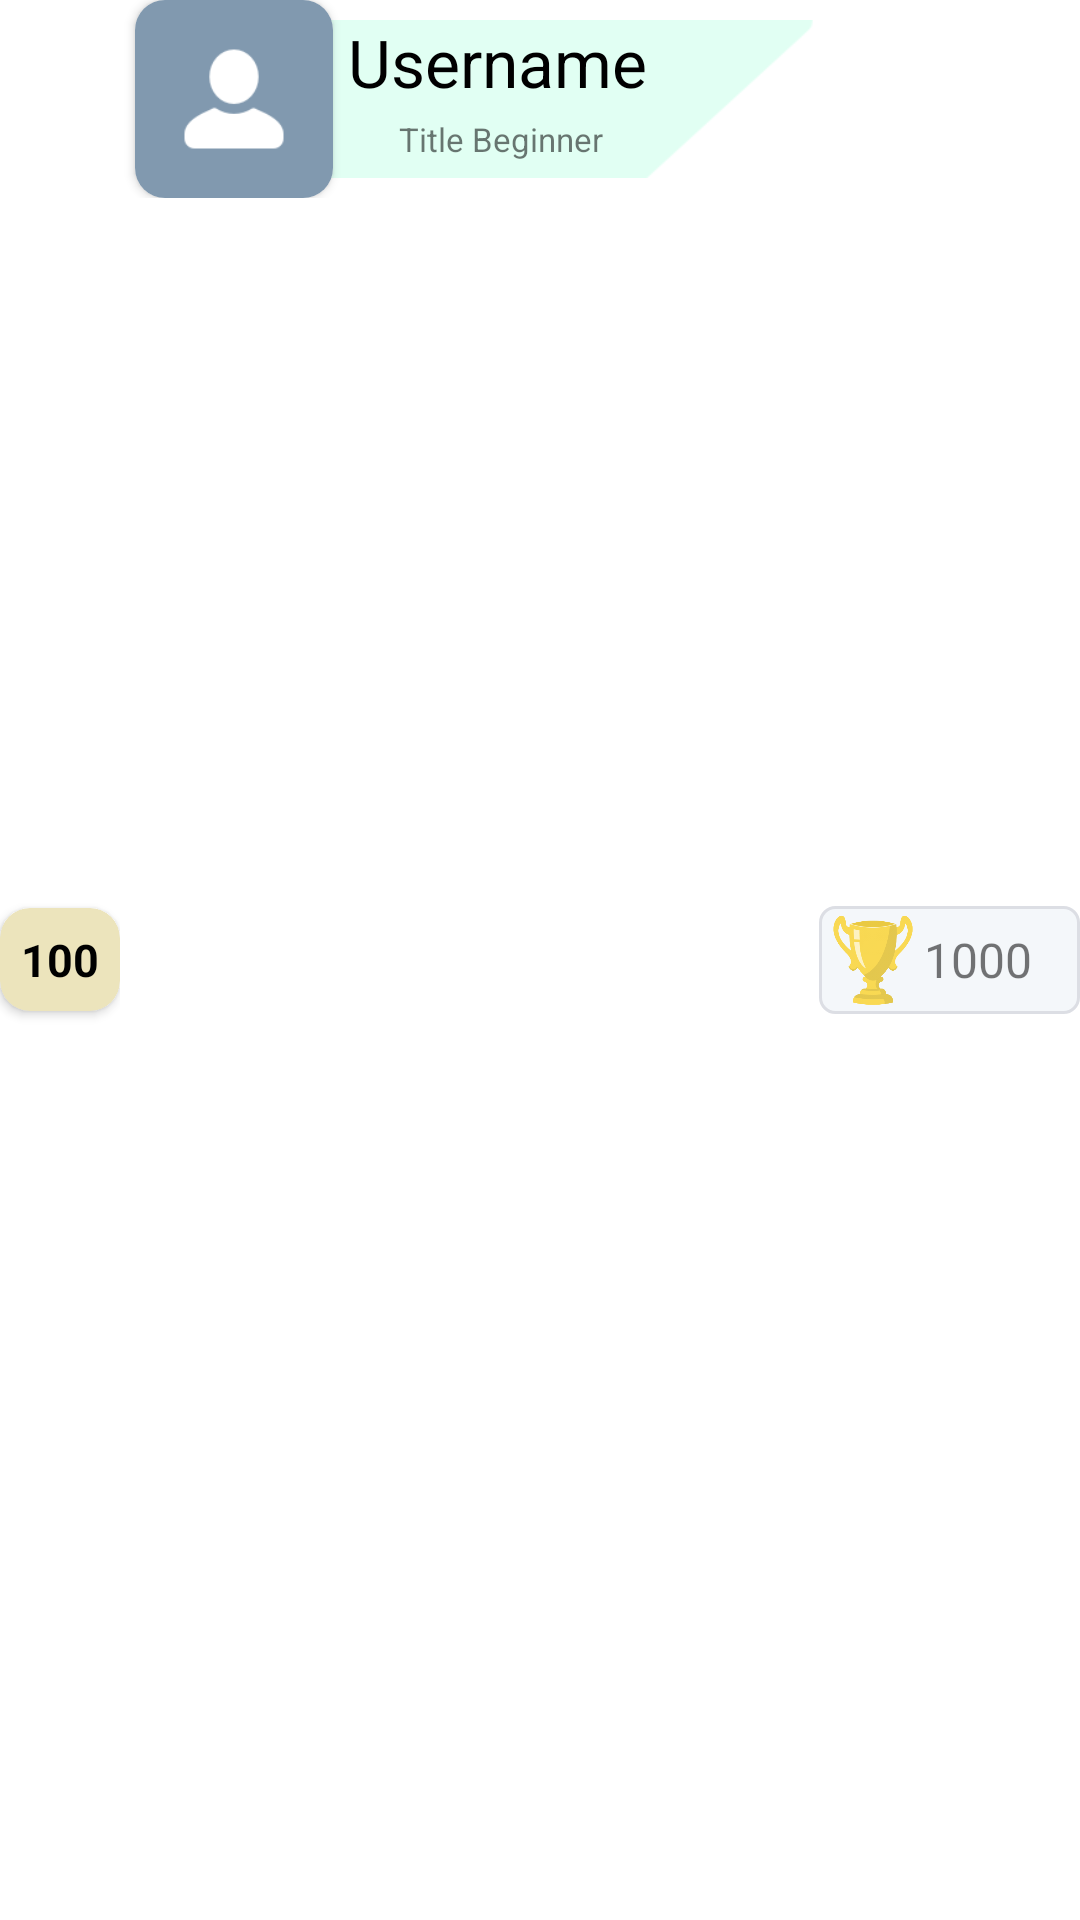

Screen size 1080 x 1920. Icon name, then its center in pixels as [x,y]:
glory: [873,960]
simple user: [234,99]
